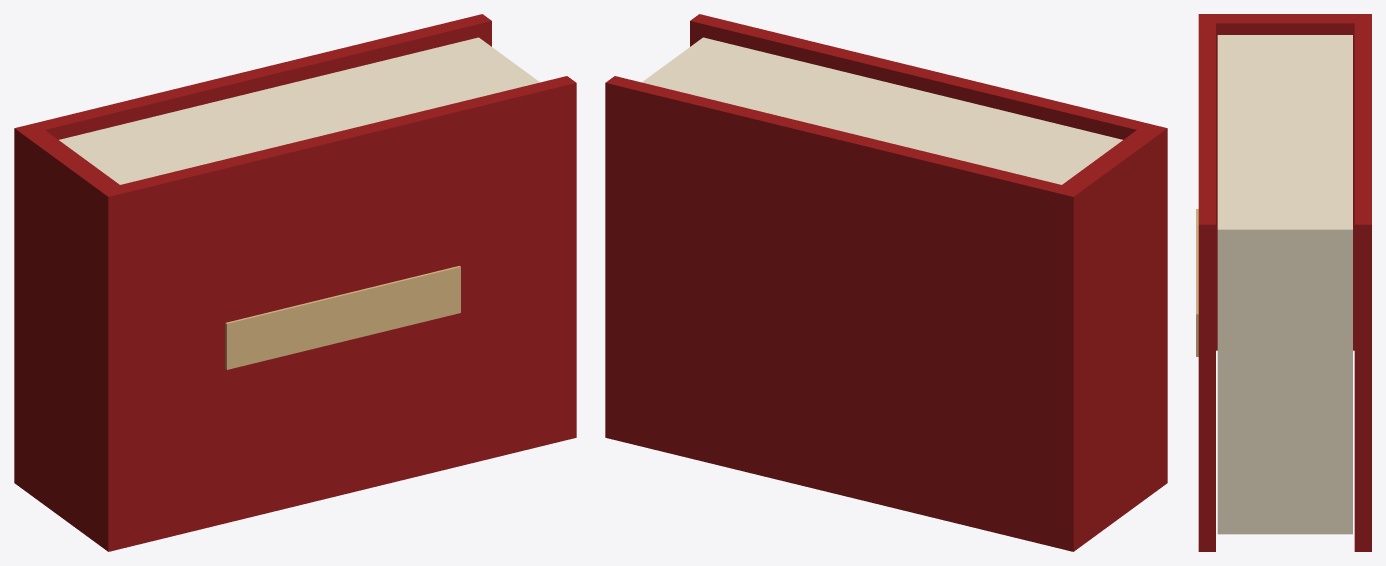
Rendered from rounds_book_bed.glb.
3 views of the same model, side by side, from view 1: azimuth 30°, elevation 25°; view 2: azimuth 150°, elevation 25°; view 3: azimuth 270°, elevation 25° (orthographic). The views are drawn at different scales.
Visible parts, largest first — view 1: world; view 2: world; view 3: world.
Part boxes in pixels (left/top/right/bottom): world: left=14, top=14, right=576, bottom=551; world: left=605, top=14, right=1167, bottom=551; world: left=1196, top=14, right=1371, bottom=551.
Bounding box in the file's own units: 0.069 × 0.05 × 0.0244.
Materials: 1 (1 with a texture image).
